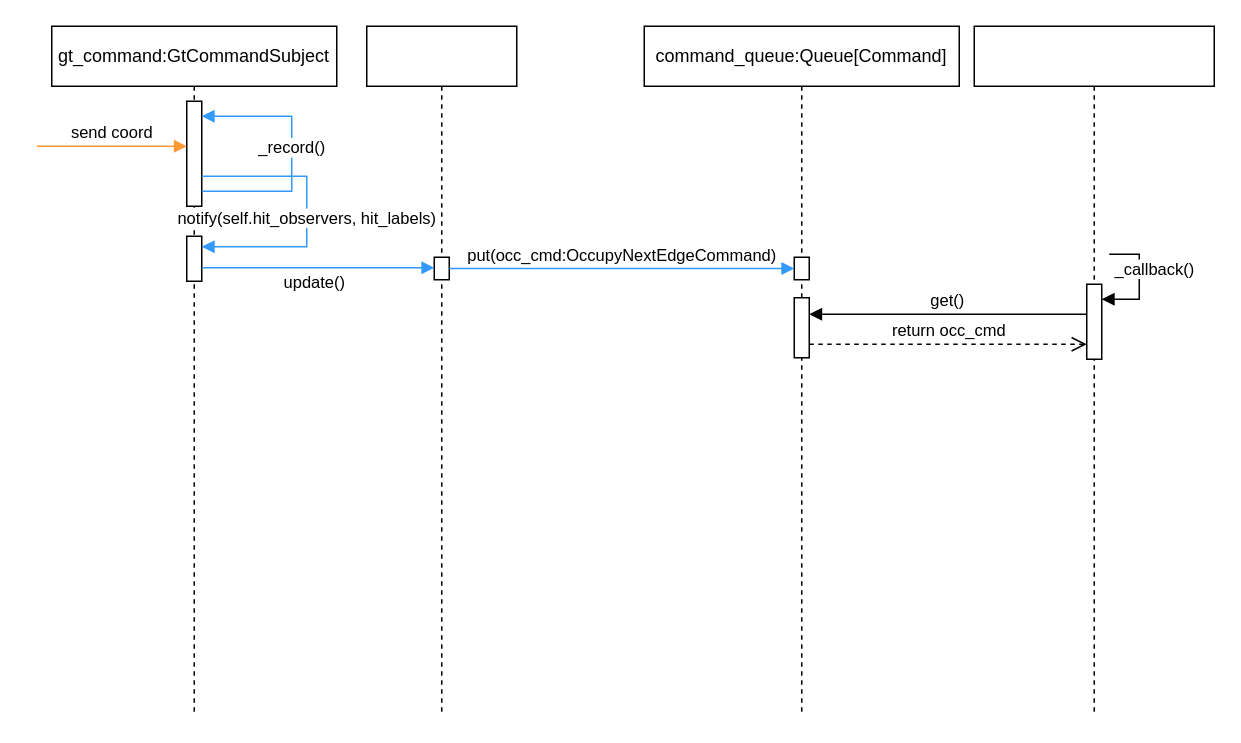
The diagram is 1241 pixels wide and 743 high, and some of its shapes have lost their labels. The box of each missing label's shape, as (x1, y1, x2, y2) in pixels:
:TsHitObserver: (365, 25, 517, 716)
main_window:MainWindow: (973, 25, 1214, 716)
